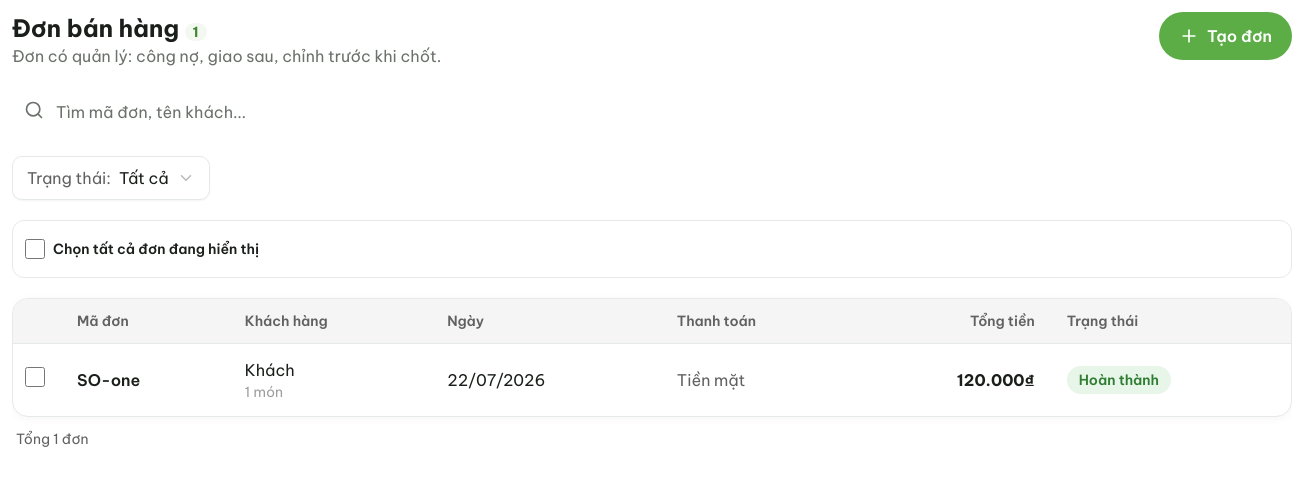
Test case: OrderList › surfaces a failure when the bulk download breaks
Step 1. Click the checkbox labelled "Chọn tất cả đơn đang hiển thị" → (35, 249), box [25, 239, 45, 259]
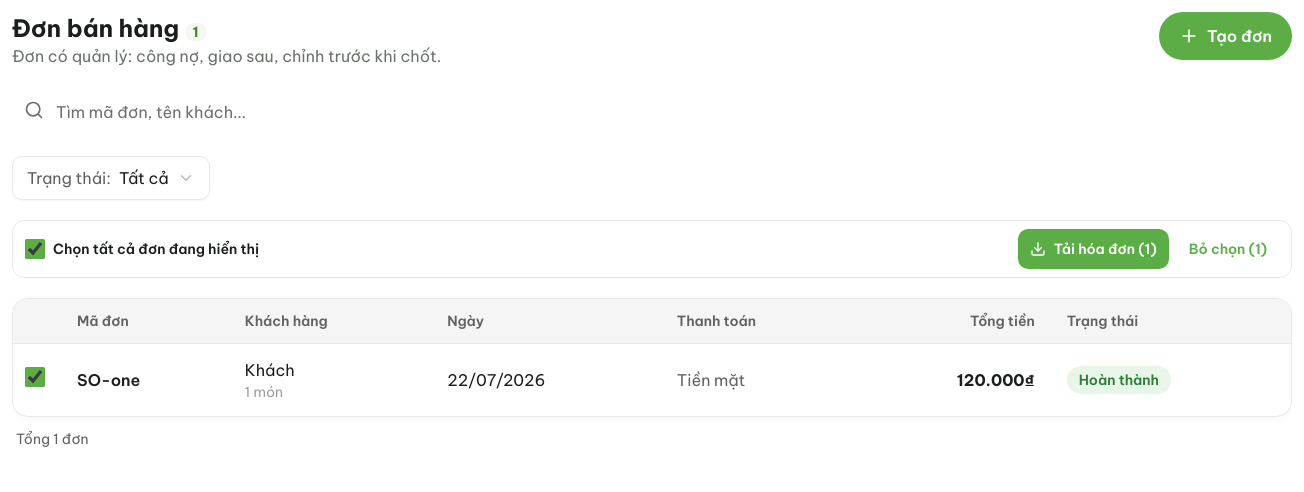
Step 2. Click the button "Tải hóa đơn (1)" → (1093, 249), box [1018, 229, 1169, 269]
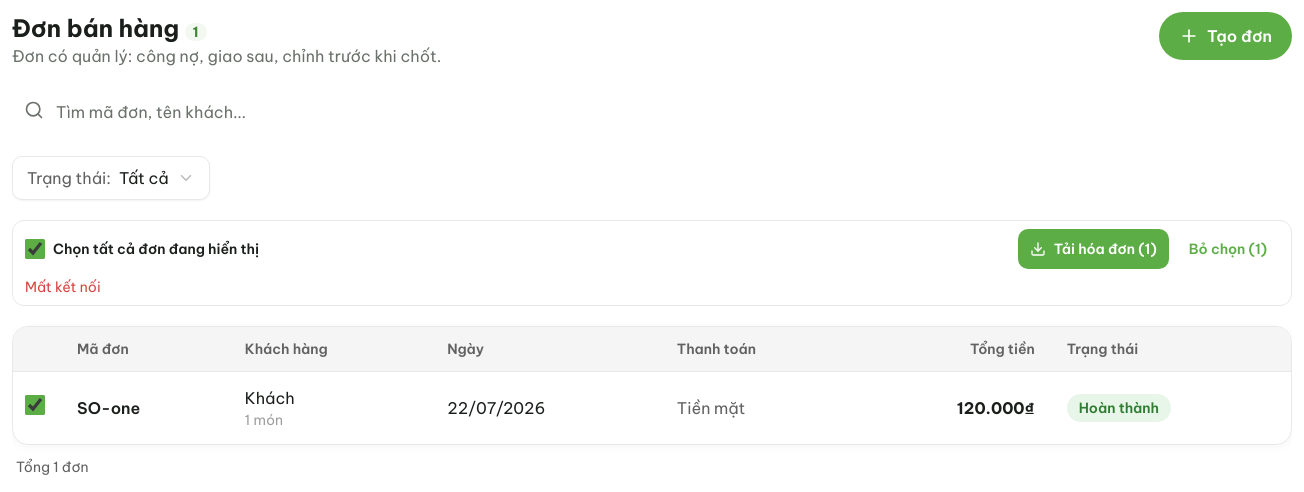
expect the text "Mất kết nối" is shown: met, box [25, 278, 101, 296]
